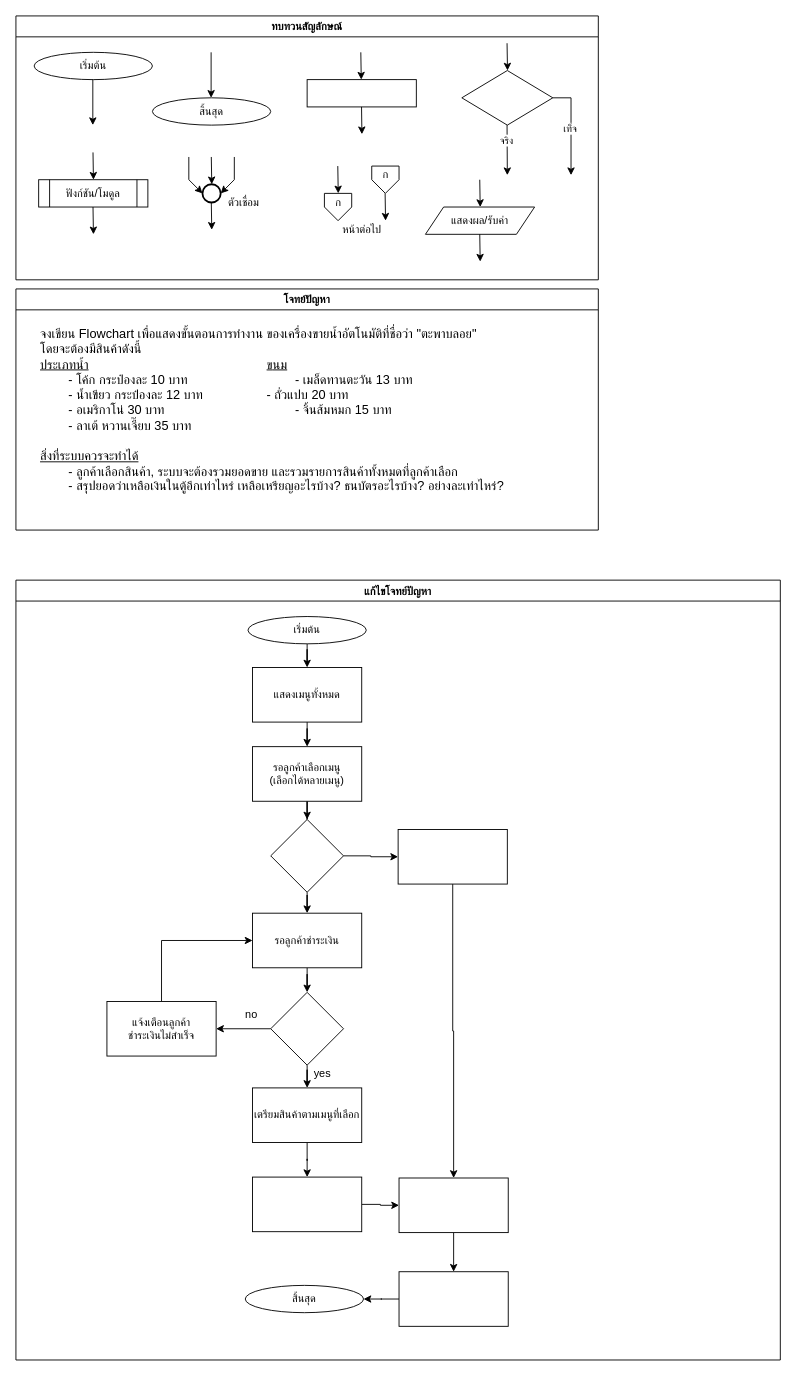
This 796x1376 diagram has some shape labels left out. Here are the shapes that lost their labels. From the top down, the centre of each, then its label:
(361,93): กระบวนการ
(507,97): ประโยคเงื่อนไข
(307,855): ลูกค้าเลือกเมนู
(452,856): คำนวณราคารวมจากเมนูที่เลือก
(307,1028): ลูกค้าชำระเงิน
(307,1204): ส่งมอบสินค้าให้ลูกค้า
(453,1205): ทอนเงินให้ลูกค้า
(453,1298): แสดงคำขอบคุณ
